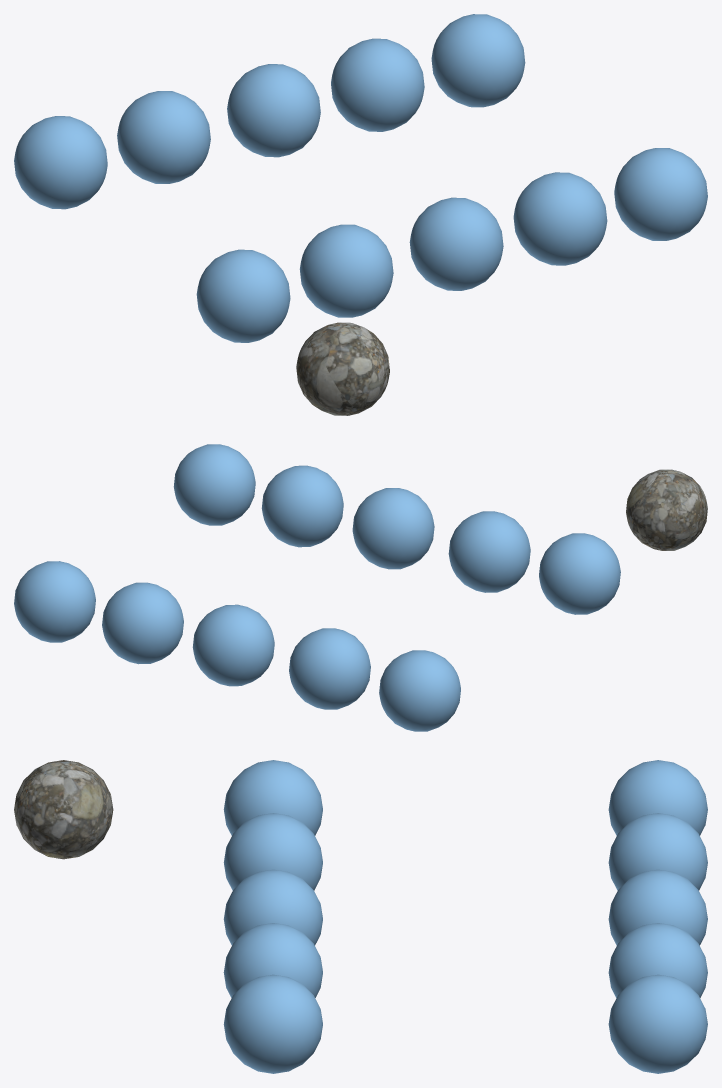
File: basicMaterials.glb
The picture shows the model from 3 angles, top to bottom: view 1: azimuth 30°, elevation 25°; view 2: azimuth 150°, elevation 25°; view 3: azimuth 270°, elevation 25°; orthographic projection. The views are drawn at different scales.
Visible parts, largest first — view 1: Icosphere.001, Icosphere.009, Icosphere, Icosphere.003, Icosphere.008, Icosphere.002, Icosphere.010, Icosphere.007, Icosphere.005, Icosphere.006, Icosphere.004; view 2: Icosphere.001, Icosphere.002, Icosphere, Icosphere.003, Icosphere.004, Icosphere.006, Icosphere.007, Icosphere.008, Icosphere.009, Icosphere.010, Icosphere.005; view 3: Icosphere.009, Icosphere.010, Icosphere.004, Icosphere.001, Icosphere.006, Icosphere.002, Icosphere.007, Icosphere, Icosphere.005, Icosphere.003, Icosphere.008.
Boxes of the visible parts, x1,y1,x2,y2 form: Icosphere.001: (299,224,393,317); Icosphere.009: (431,14,525,107); Icosphere: (196,249,290,342); Icosphere.003: (513,172,607,265); Icosphere.008: (331,38,424,131); Icosphere.002: (409,197,503,290); Icosphere.010: (296,322,389,415); Icosphere.007: (227,64,320,157); Icosphere.005: (14,116,107,209); Icosphere.006: (117,91,210,183); Icosphere.004: (614,148,707,240); Icosphere.001: (448,511,530,592); Icosphere.002: (352,488,434,569); Icosphere: (539,533,620,614); Icosphere.003: (261,465,343,547); Icosphere.004: (173,444,255,525); Icosphere.006: (289,628,370,709); Icosphere.007: (192,604,274,686); Icosphere.008: (102,582,183,664); Icosphere.009: (14,561,95,642); Icosphere.010: (626,469,707,550); Icosphere.005: (379,650,460,731); Icosphere.009: (608,974,707,1073); Icosphere.010: (14,760,113,859); Icosphere.004: (223,974,322,1073); Icosphere.001: (223,813,322,890); Icosphere.006: (608,813,707,890); Icosphere.002: (223,869,322,945); Icosphere.007: (608,869,707,945); Icosphere: (223,760,322,835); Icosphere.005: (608,760,707,835); Icosphere.003: (223,923,322,997); Icosphere.008: (608,923,707,997).
Bounding box in the file's own units: 12.22 × 2 × 13.97.
Materials: 11 (1 with a texture image).
